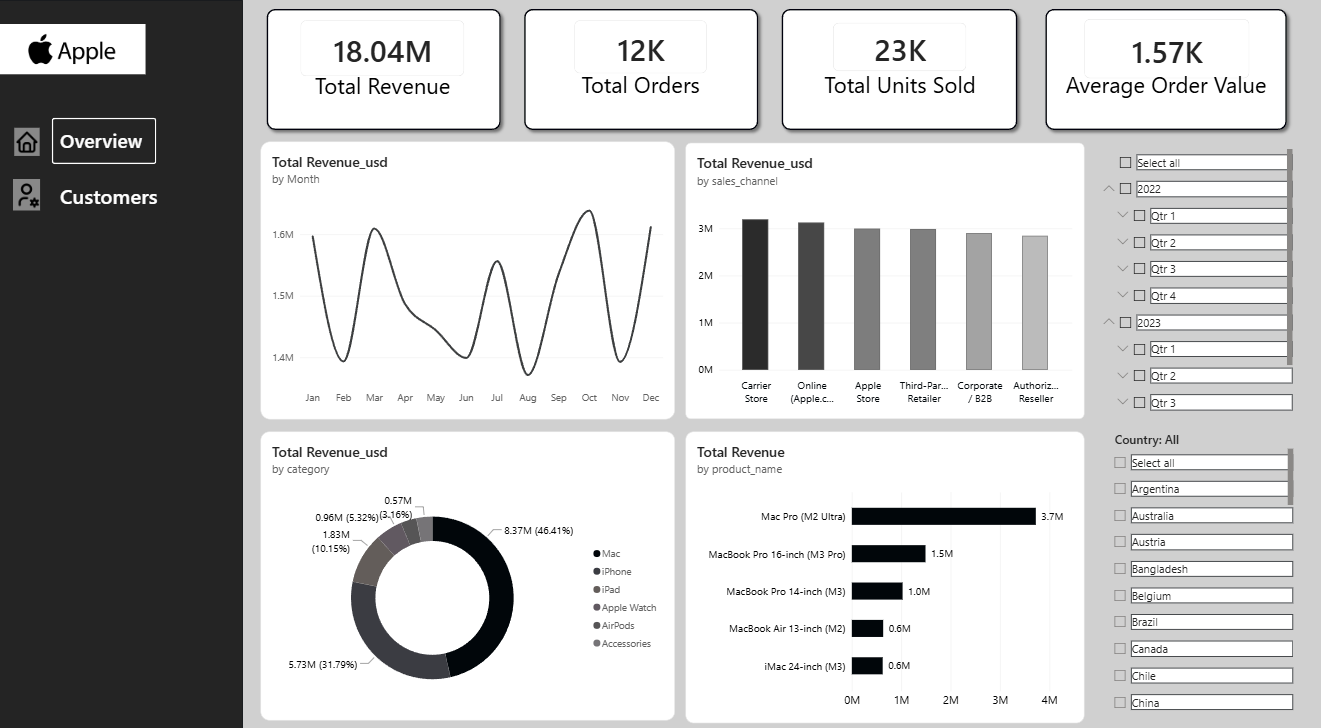

The page's visual inventory and layout, read from the dashboard file:
{"tool":"powerbi","page":{"name":"Overview","canvas":[1920,1080],"ordinal":0},"visuals":[{"type":"shape","box":[0,15.9,354.5,1063.6],"z":0},{"type":"shape","box":[1125,20.5,359.1,193.2],"z":0,"group":"g3"},{"type":"shape","box":[1507.2,20.5,367.3,193.2],"z":0,"group":"g4"},{"type":"shape","box":[379.5,20.5,356.8,193.2],"z":1000,"group":"g1"},{"type":"cardVisual","fields":{"Data":["apple_global_sales_dataset.Average Order Value"]},"box":[1572.5,43.2,239.2,86.4],"z":1000,"group":"g4"},{"type":"image","box":[0,50,213.6,72.7],"z":1000},{"type":"cardVisual","fields":{"Data":["apple_global_sales_dataset.Total Units Sold"]},"box":[1207.7,50,193.7,70.5],"z":1000,"group":"g3"},{"type":"shape","box":[752.3,20.5,356.8,193.2],"z":2000,"group":"g2"},{"type":"textbox","box":[1160.4,116,288.2,50],"z":2000,"group":"g3"},{"type":"textbox","box":[1500,116,381.8,50],"z":2000,"group":"g4"},{"type":"actionButton","box":[77.9,186.1,151.5,67.1],"z":2000},{"type":"cardVisual","fields":{"Data":["Sum(apple_global_sales_dataset.revenue_usd)"]},"box":[438.2,45.5,237.1,81.8],"z":3000,"group":"g1"},{"type":"image","box":[23.8,201.3,36.8,41.1],"z":3000},{"type":"textbox","box":[428.8,118.2,255.9,63.6],"z":4000,"group":"g1"},{"type":"actionButton","box":[77.9,259.7,168.8,77.9],"z":4000},{"type":"image","box":[21.6,274.8,39,45.4],"z":5000},{"type":"group","id":"g1","title":"Group 1","box":[379.5,20.5,356.8,193.2],"z":6000},{"type":"group","id":"g2","title":"Group 2","box":[752.3,20.5,356.8,193.2],"z":7000},{"type":"group","id":"g3","title":"Group 3","box":[1125,20.5,359.1,193.2],"z":8000},{"type":"group","id":"g4","title":"Group 4","box":[1500,20.5,381.8,193.2],"z":9000},{"type":"lineChart","title":"Total Revenue_usd","fields":{"Category":["apple_global_sales_dataset.Month Short"],"Y":["Sum(apple_global_sales_dataset.revenue_usd)"]},"box":[379.5,220.5,600,402.3],"z":10000},{"type":"slicer","fields":{"Values":["apple_global_sales_dataset.sale_date.Variation.Date Hierarchy.Year","apple_global_sales_dataset.sale_date.Variation.Date Hierarchy.Quarter","apple_global_sales_dataset.sale_date.Variation.Date Hierarchy.Month","apple_global_sales_dataset.sale_date.Variation.Date Hierarchy.Day"]},"box":[1592.8,231.6,281.3,383.1],"z":11000},{"type":"clusteredColumnChart","title":"Total Revenue_usd","fields":{"Category":["apple_global_sales_dataset.sales_channel"],"Y":["Sum(apple_global_sales_dataset.revenue_usd)"]},"box":[995.5,222.7,577.3,400],"z":12000},{"type":"cardVisual","fields":{"Data":["apple_global_sales_dataset.Total Orders"]},"box":[834.5,45.5,192.5,77.3],"z":13000,"group":"g2"},{"type":"donutChart","title":"Total Revenue_usd","fields":{"Category":["apple_global_sales_dataset.category"],"Y":["Sum(apple_global_sales_dataset.revenue_usd)"]},"box":[379.5,640.9,600,418.2],"z":13000},{"type":"clusteredBarChart","fields":{"Category":["apple_global_sales_dataset.product_name"],"Y":["apple_global_sales_dataset.Total Revenue"]},"box":[995.5,640.9,577.3,422.7],"z":14000},{"type":"textbox","box":[834.5,116,192.5,61.4],"z":14001,"group":"g2"},{"type":"slicer","fields":{"Values":["apple_global_sales_dataset.country"]},"box":[1608,640.6,266.2,417.7],"z":15000}]}

Visuals, with their boxes on the page's 1920x1080 design canvas (x1, y1, x2, y2). These are canvas units, not pixel positions in the 1321x728 screenshot, which may show the page scaled, cropped or inside an application window:
shape: rect(0, 16, 354, 1080)
shape: rect(1125, 20, 1484, 214)
shape: rect(1507, 20, 1874, 214)
shape: rect(380, 20, 736, 214)
cardVisual - apple_global_sales_dataset.Average Order Value: rect(1572, 43, 1812, 130)
image: rect(0, 50, 214, 123)
cardVisual - apple_global_sales_dataset.Total Units Sold: rect(1208, 50, 1401, 120)
shape: rect(752, 20, 1109, 214)
textbox: rect(1160, 116, 1449, 166)
textbox: rect(1500, 116, 1882, 166)
actionButton: rect(78, 186, 229, 253)
cardVisual - Sum(apple_global_sales_dataset.revenue_usd): rect(438, 46, 675, 127)
image: rect(24, 201, 61, 242)
textbox: rect(429, 118, 685, 182)
actionButton: rect(78, 260, 247, 338)
image: rect(22, 275, 61, 320)
"Group 1" group: rect(380, 20, 736, 214)
"Group 2" group: rect(752, 20, 1109, 214)
"Group 3" group: rect(1125, 20, 1484, 214)
"Group 4" group: rect(1500, 20, 1882, 214)
"Total Revenue_usd" lineChart: rect(380, 220, 980, 623)
slicer - apple_global_sales_dataset.sale_date.Variation.Date Hierarchy.Year x apple_global_sales_dataset.sale_date.Variation.Date Hierarchy.Quarter: rect(1593, 232, 1874, 615)
"Total Revenue_usd" clusteredColumnChart: rect(996, 223, 1573, 623)
cardVisual - apple_global_sales_dataset.Total Orders: rect(834, 46, 1027, 123)
"Total Revenue_usd" donutChart: rect(380, 641, 980, 1059)
clusteredBarChart - apple_global_sales_dataset.product_name x apple_global_sales_dataset.Total Revenue: rect(996, 641, 1573, 1064)
textbox: rect(834, 116, 1027, 177)
slicer - apple_global_sales_dataset.country: rect(1608, 641, 1874, 1058)
